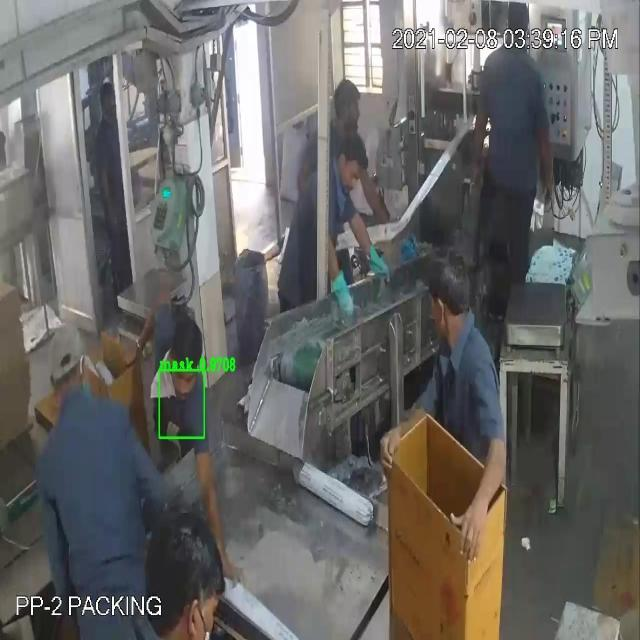No_Gloves: (28, 60, 487, 510)
